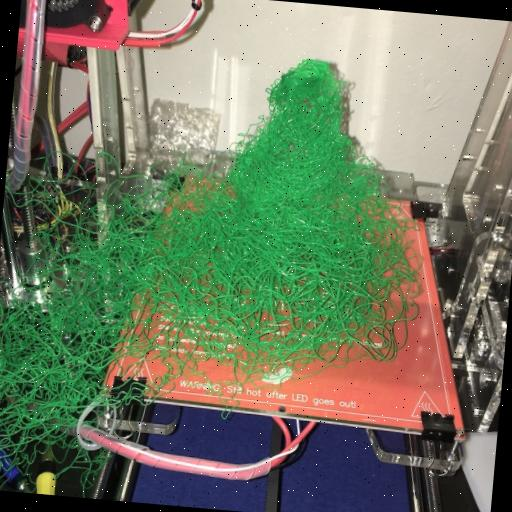spaghetti: (0, 36, 443, 492)
